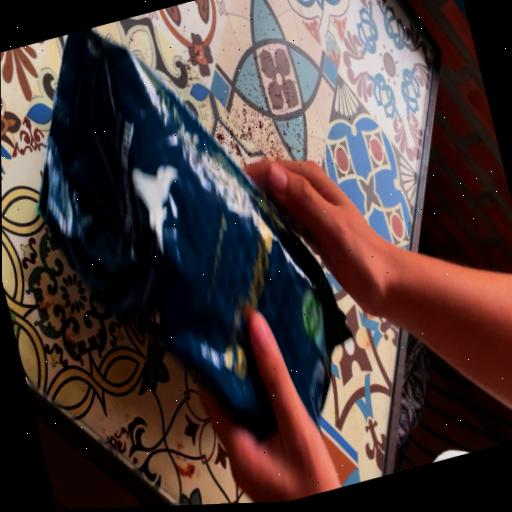cafe_hat: (39, 28, 350, 436)
